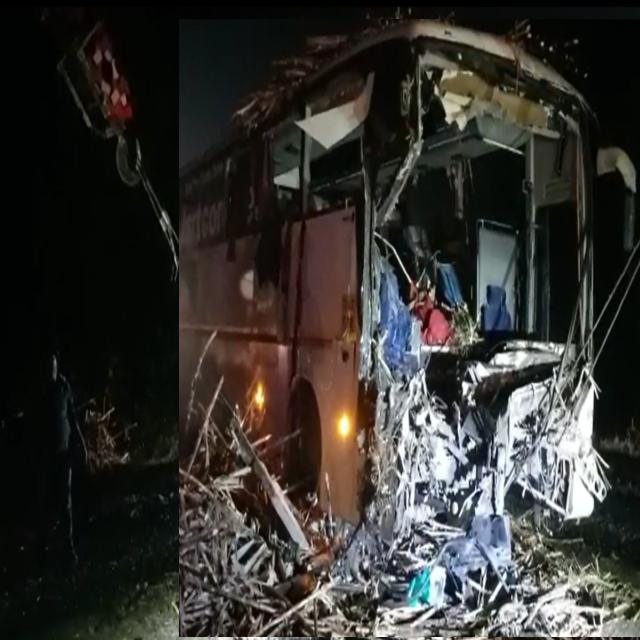accident: (179, 20, 640, 637)
